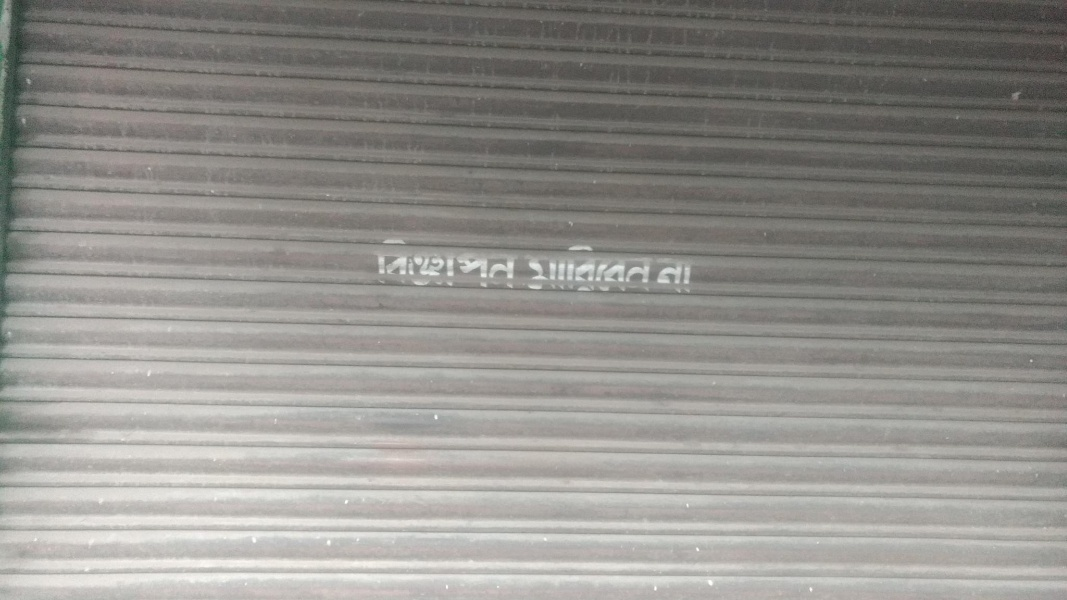text: (385, 237, 400, 293), (401, 237, 416, 293), (417, 237, 432, 293), (433, 237, 448, 293), (449, 237, 464, 293), (465, 237, 480, 293), (481, 237, 496, 293), (497, 237, 512, 293), (641, 245, 657, 296), (529, 245, 544, 296), (545, 245, 560, 296), (561, 245, 576, 296), (577, 245, 592, 296), (593, 245, 608, 296), (609, 245, 624, 296), (625, 245, 640, 296), (657, 249, 672, 289), (673, 249, 688, 289), (513, 237, 517, 293), (689, 249, 694, 289), (381, 237, 384, 293), (654, 249, 656, 289)
